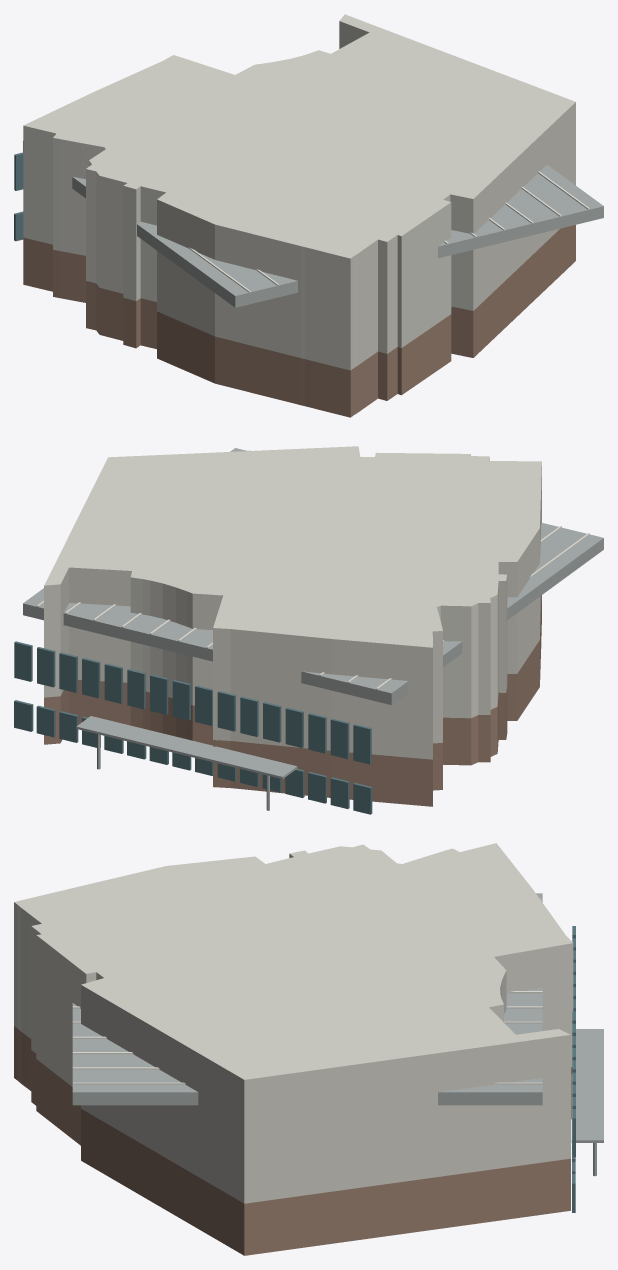
File: scotiabank_arena.glb
3 renders of one model, top to bottom at view 1: azimuth 30°, elevation 25°; view 2: azimuth 150°, elevation 25°; view 3: azimuth 270°, elevation 25°, orthographic. The views are drawn at different scales.
Parts seen in each view (by area): view 1: Arena upper facade, Historic postal building, Arena metal roof, Roof seam, North glazing; view 2: Arena upper facade, North glazing, Historic postal building, Arena metal roof, Roof seam; view 3: Arena upper facade, Historic postal building, Arena metal roof, Roof seam, North glazing.
Boxes of the visible parts, x1,y1,x2,y2 form: Arena upper facade: (23,14,575,370); Historic postal building: (23,225,575,417); Arena metal roof: (23,141,603,307); Roof seam: (189,171,589,292); North glazing: (14,152,23,241); Arena upper facade: (44,446,541,759); North glazing: (14,641,372,814); Historic postal building: (44,595,541,806); Arena metal roof: (23,448,603,810); Roof seam: (36,450,589,689); Arena upper facade: (14,843,573,1203); Historic postal building: (14,1026,572,1255); Arena metal roof: (72,893,603,1176); Roof seam: (72,899,542,1084); North glazing: (572,926,575,1212).
Bounding box in the file's own units: 156 × 54 × 164.
